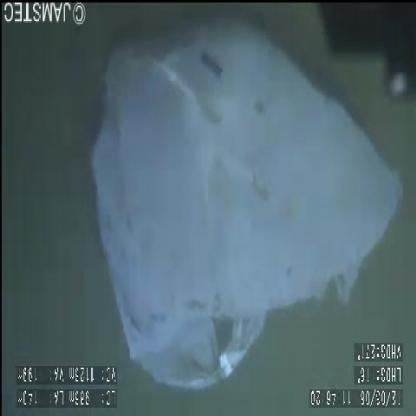Rác: (81, 24, 405, 398)
